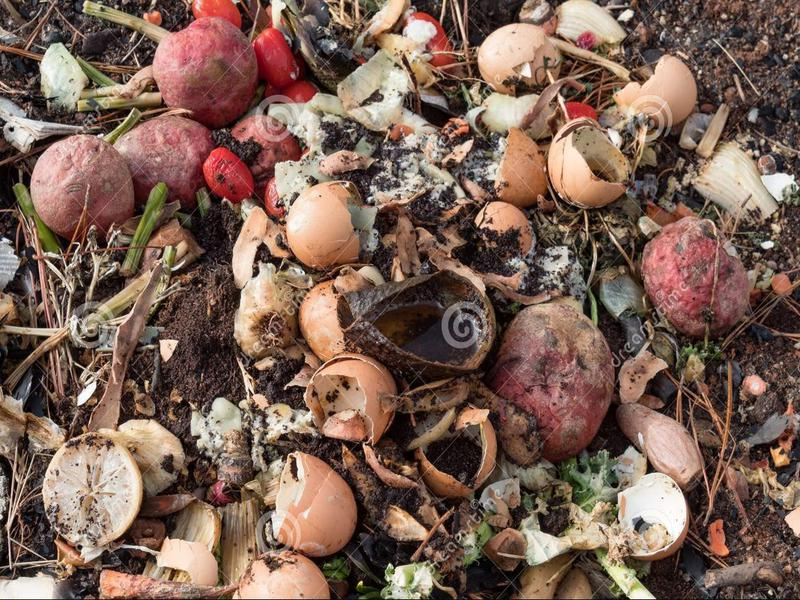vegetation: (6, 4, 798, 600)
